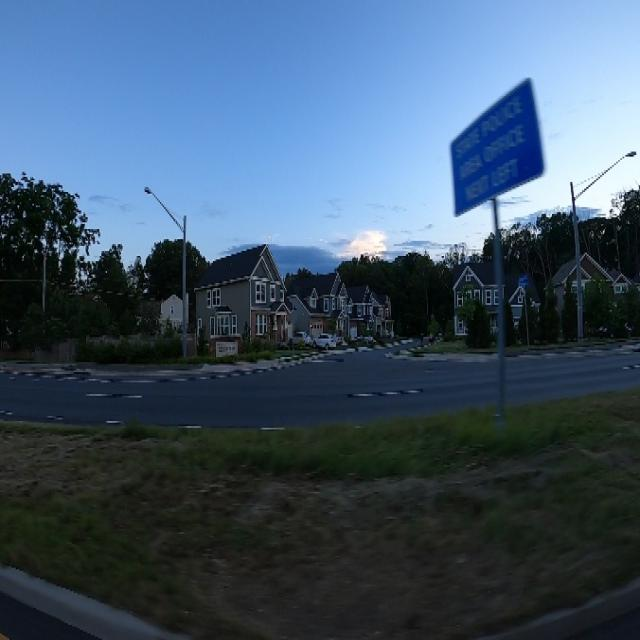cars: (313, 328, 339, 353), (286, 328, 310, 353)
